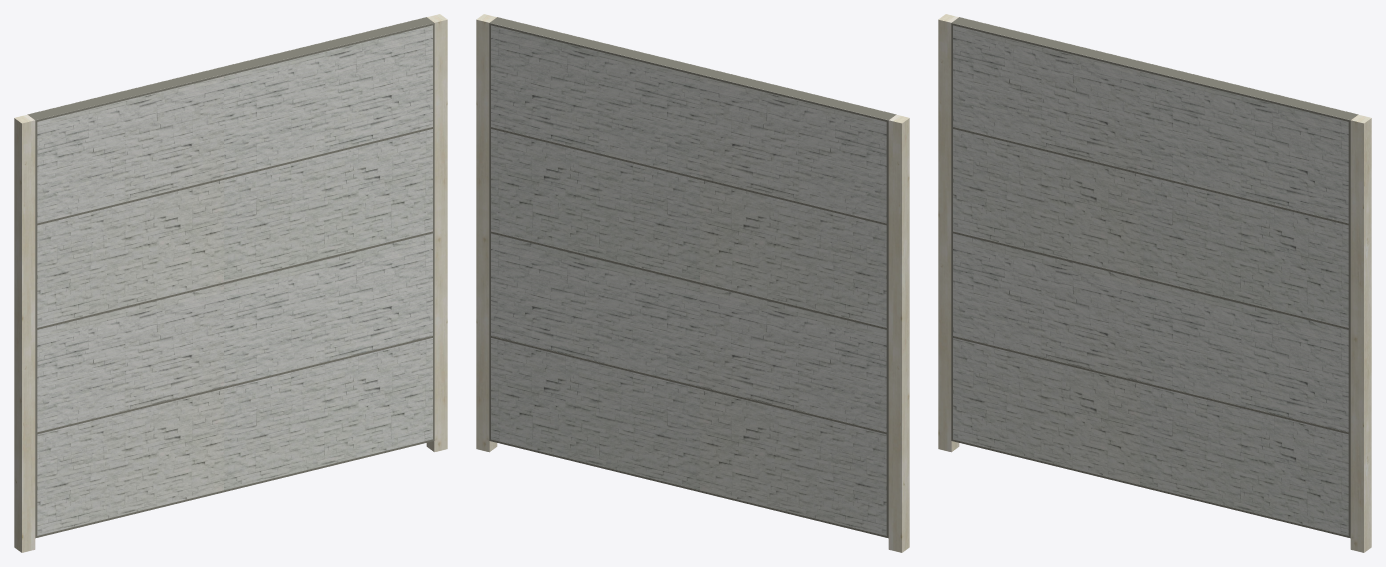
The model's file is ABF1-H1800_randomstonewhite.fbx.
3 views of the same model, side by side, from view 1: azimuth 30°, elevation 25°; view 2: azimuth 150°, elevation 25°; view 3: azimuth 330°, elevation 25° (orthographic).
Visible parts, largest first — view 1: 1850-1920-60_randomstone white; view 2: 1850-1920-60_randomstone white; view 3: 1850-1920-60_randomstone white.
Boxes of the visible parts, x1,y1,x2,y2 form: 1850-1920-60_randomstone white: (14,14,447,552); 1850-1920-60_randomstone white: (476,14,909,552); 1850-1920-60_randomstone white: (938,14,1371,552).
Size of the model in its own units: 192 by 185 by 6.4.
Materials: 5 (4 with a texture image).
